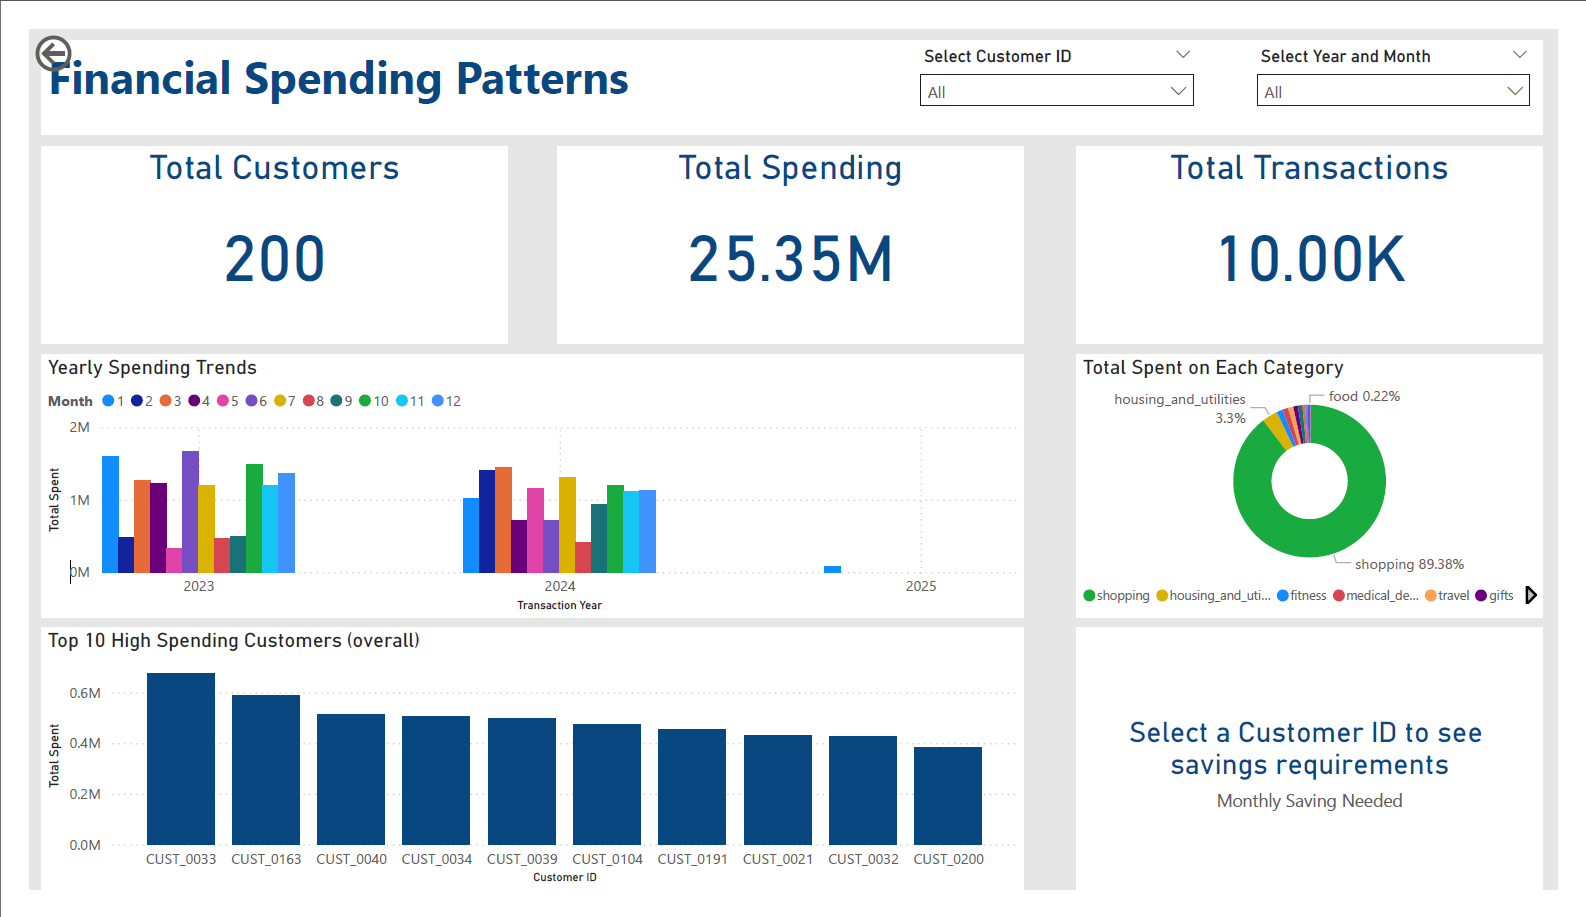

Layout of this report page (visuals, bound fields, positions):
{"tool":"powerbi","page":{"name":"Page 1","canvas":[1280,720],"ordinal":0},"visuals":[{"type":"textbox","box":[9.8,8.6,1257.7,79.8],"z":0},{"type":"slicer","fields":{"Values":["customer_spending_db vw_financial_dashboard.transaction_date.Variation.Date Hierarchy.Year","customer_spending_db vw_financial_dashboard.transaction_date.Variation.Date Hierarchy.Month"]},"box":[1018.4,8.6,249.1,79.8],"z":1000},{"type":"slicer","fields":{"Values":["customer_spending_db vw_financial_dashboard.customer_id"]},"box":[736.2,8.6,249.1,79.8],"z":2000},{"type":"card","title":"Total Customers","fields":{"Values":["Count(customer_spending_db vw_financial_dashboard.customer_id)"]},"box":[9.8,98.2,390.2,164.4],"z":3000},{"type":"card","title":"Total Spending","fields":{"Values":["Sum(customer_spending_db vw_financial_dashboard.total_spent)"]},"box":[441.8,98.2,390,164.4],"z":4000},{"type":"card","title":"Total Transactions","fields":{"Values":["CountNonNull(customer_spending_db vw_financial_dashboard.transaction_date)"]},"box":[877.3,98.2,390.2,164.4],"z":5000},{"type":"clusteredColumnChart","title":"Yearly Spending Trends","fields":{"Y":["Sum(customer_spending_db vw_financial_dashboard.total_spent)"],"Category":["customer_spending_db vw_financial_dashboard.transaction_year"],"Series":["customer_spending_db vw_financial_dashboard.transaction_month"]},"box":[9.8,272.4,822.1,219.6],"z":6000},{"type":"actionButton","box":[0,0,100,40],"z":6001},{"type":"clusteredColumnChart","title":"Top 10 High Spending Customers (overall)","fields":{"Y":["Sum(customer_spending_db vw_financial_dashboard.total_spent)"],"Category":["customer_spending_db vw_financial_dashboard.customer_id"]},"box":[9.8,500.6,822.1,219.6],"z":6002},{"type":"donutChart","title":"Total Spent on Each Category","fields":{"Category":["customer_spending_db vw_financial_dashboard.category"],"Y":["Sum(customer_spending_db vw_financial_dashboard.total_spent)"]},"box":[877.3,272.4,390.2,219.6],"z":6003},{"type":"card","fields":{"Values":["Goal Amount.Monthly Saving Needed"]},"box":[877,501,390,219],"z":6004}]}

Visuals, with their boxes in screenshot pixels (x1, y1, x2, y2), scaled from the page's 1280x720 canvas onto the 1586x917 screenshot:
textbox: [12, 11, 1571, 113]
slicer - customer_spending_db vw_financial_dashboard.transaction_date.Variation.Date Hierarchy.Year x customer_spending_db vw_financial_dashboard.transaction_date.Variation.Date Hierarchy.Month: [1262, 11, 1571, 113]
slicer - customer_spending_db vw_financial_dashboard.customer_id: [912, 11, 1221, 113]
"Total Customers" card: [12, 125, 496, 334]
"Total Spending" card: [547, 125, 1031, 334]
"Total Transactions" card: [1087, 125, 1571, 334]
"Yearly Spending Trends" clusteredColumnChart: [12, 347, 1031, 627]
actionButton: [0, 0, 124, 51]
"Top 10 High Spending Customers (overall)" clusteredColumnChart: [12, 638, 1031, 916]
"Total Spent on Each Category" donutChart: [1087, 347, 1571, 627]
card - Goal Amount.Monthly Saving Needed: [1087, 638, 1570, 916]
